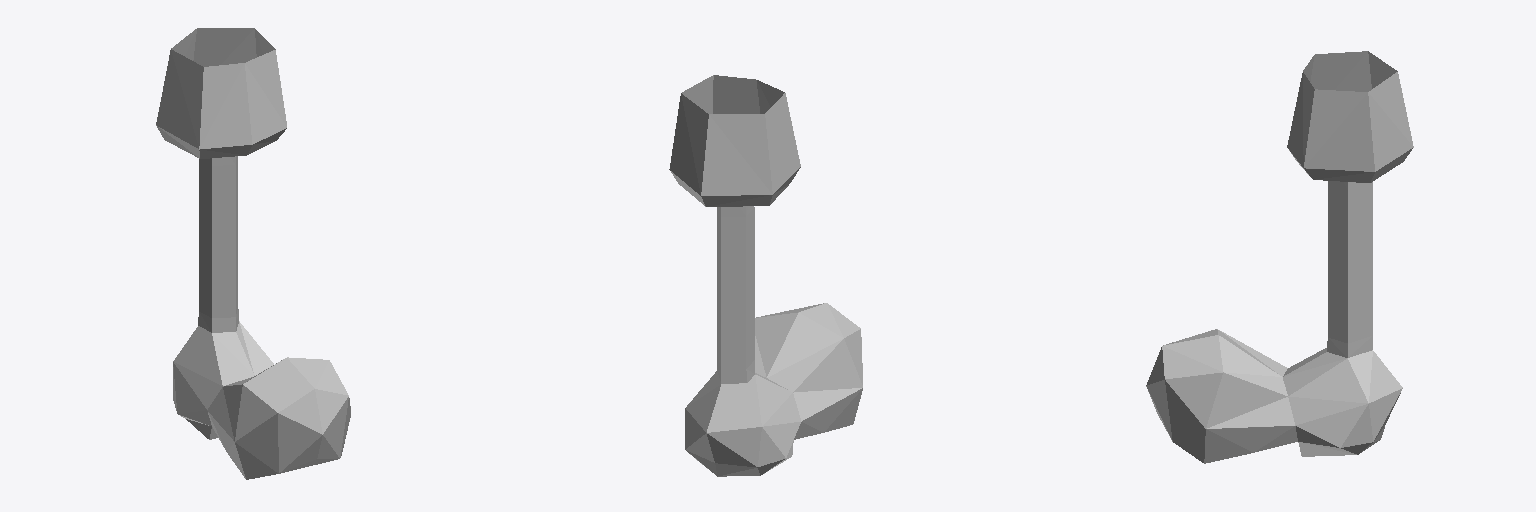
The model's file is pieDerecho.obj.
The picture shows the model from 3 angles: view 1: azimuth 30°, elevation 25°; view 2: azimuth 150°, elevation 25°; view 3: azimuth 270°, elevation 25°; orthographic projection.
Parts seen in each view (by area): view 1: pasted__polySurface1 group30 pasted__group12 pasted__group11 pas; view 2: pasted__polySurface1 group30 pasted__group12 pasted__group11 pas; view 3: pasted__polySurface1 group30 pasted__group12 pasted__group11 pas.
Boxes of the visible parts, x1=… form: pasted__polySurface1 group30 pasted__group12 pasted__group11 pas: x1=156, y1=28, x2=350, y2=479; pasted__polySurface1 group30 pasted__group12 pasted__group11 pas: x1=669, y1=75, x2=862, y2=476; pasted__polySurface1 group30 pasted__group12 pasted__group11 pas: x1=1146, y1=51, x2=1413, y2=463.
Bounding box in the file's own units: 0.2323 × 0.7024 × 0.4611.